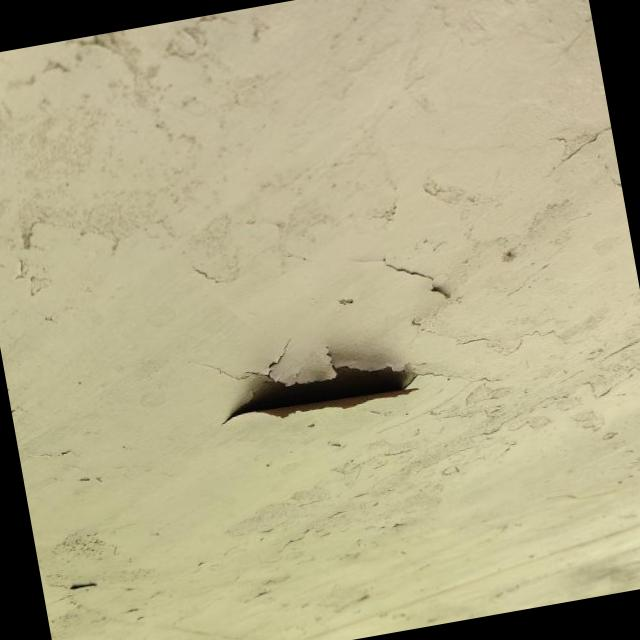Paint-off: (223, 367, 415, 423)
